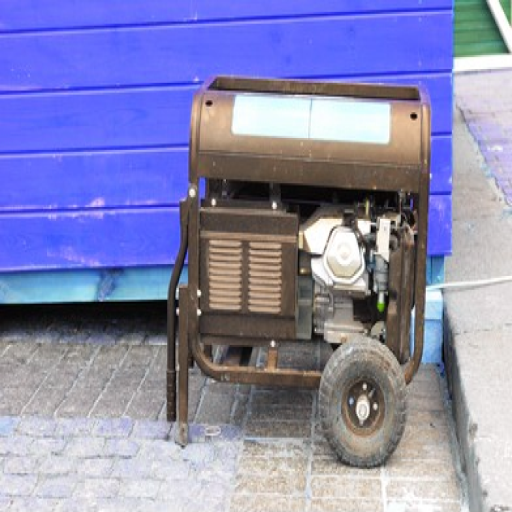portable_generator: (187, 73, 431, 391)
